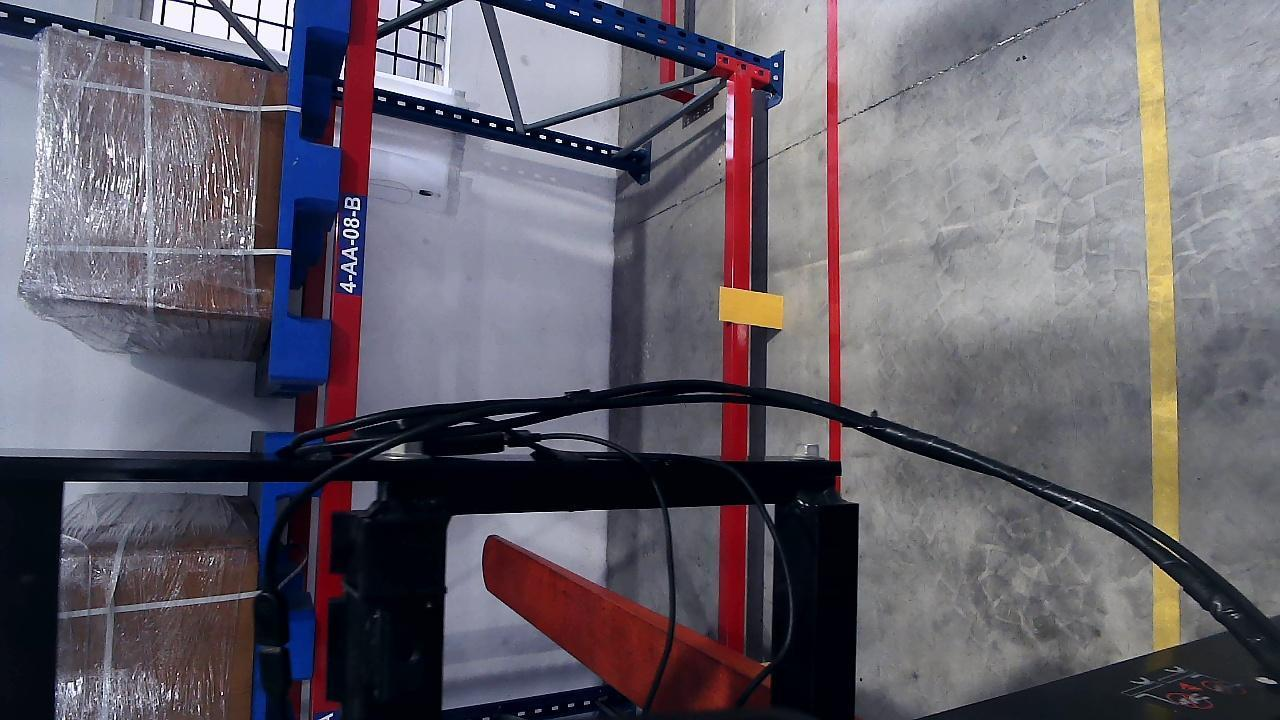red_line: (822, 0, 844, 402)
yellow_line: (1135, 0, 1181, 569)
